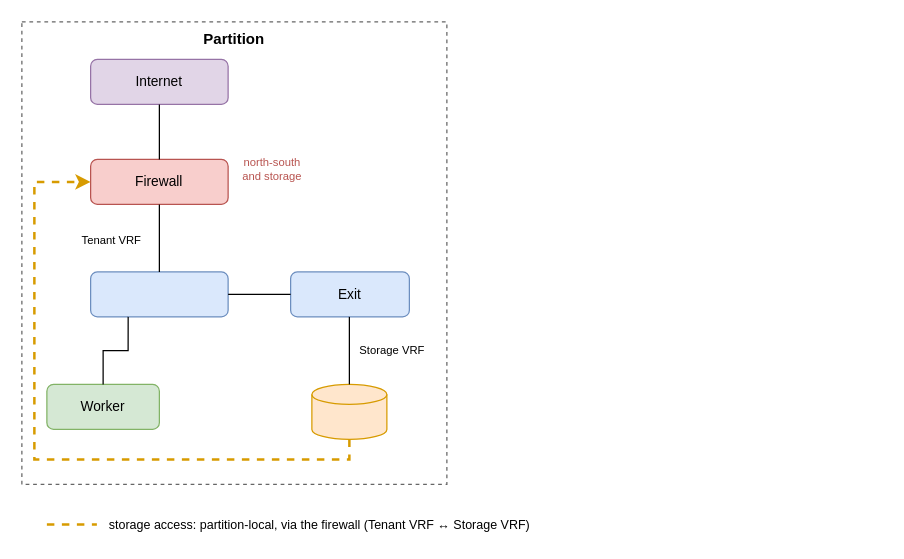
The diagram is 904 pixels wide and 559 high, and some of its shapes have lost their labels. Each missing label, with the centre of its shape:
"Leaf" goes at [158,294].
"Storage" goes at [349,411].
